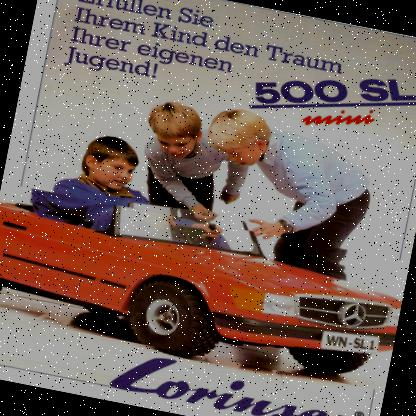Car: (0, 182, 409, 394)
